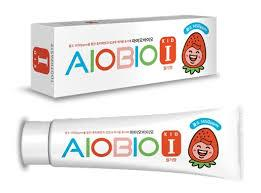toothpaste: (15, 101, 255, 177)
